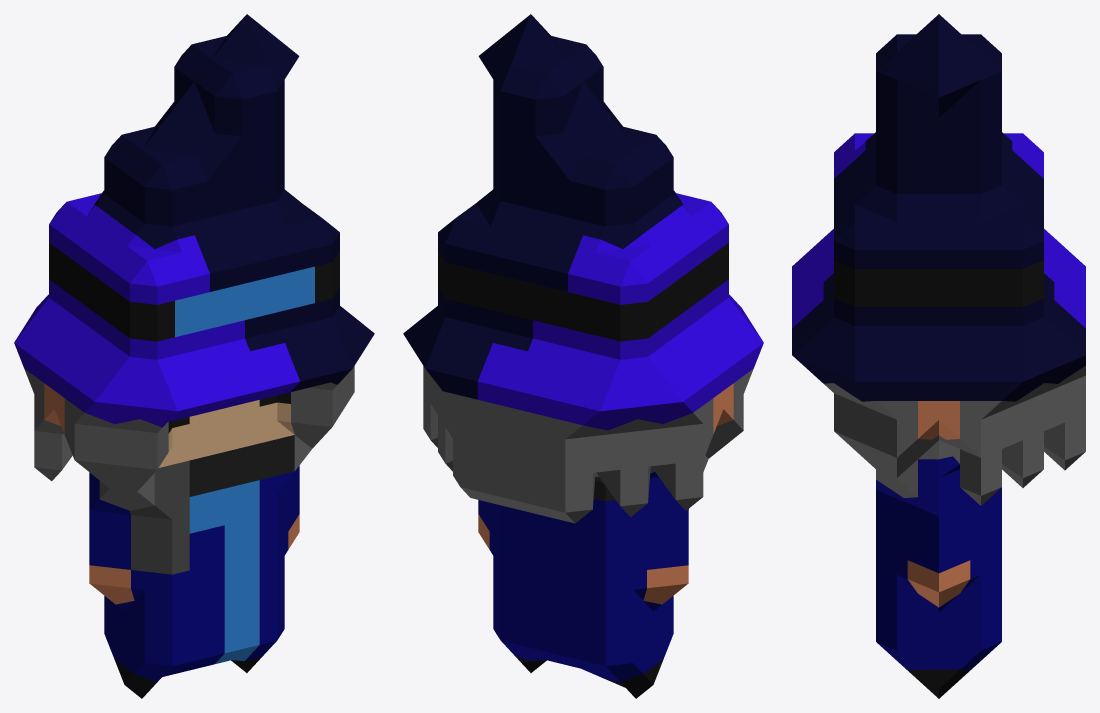
Rendered from IceMage_LOD1.fbx.
The picture shows the model from 3 angles, left to right: view 1: azimuth 30°, elevation 25°; view 2: azimuth 150°, elevation 25°; view 3: azimuth 270°, elevation 25°; orthographic projection. The views are drawn at different scales.
Parts seen in each view (by area): view 1: node; view 2: node; view 3: node.
Part boxes in pixels (bbox=[...]): node: bbox=[14, 14, 374, 698]; node: bbox=[403, 14, 763, 698]; node: bbox=[792, 14, 1085, 698].
Bounding box in the file's own units: 800 × 1800 × 700.
